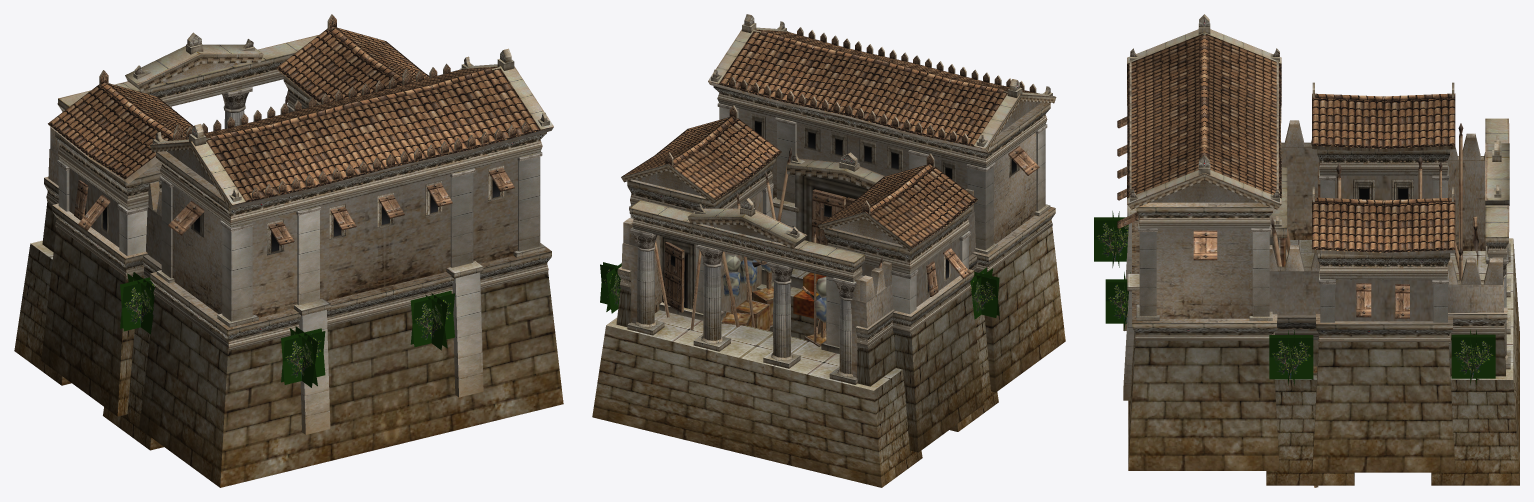
File: sele_barracks.glb
The picture shows the model from 3 angles, left to right: view 1: azimuth 30°, elevation 25°; view 2: azimuth 150°, elevation 25°; view 3: azimuth 270°, elevation 25°; orthographic projection. The views are drawn at different scales.
Visible parts, largest first — view 1: sele_barracks_part0, sele_barracks_part1, sele_barracks_part2, sele_barracks_part3; view 2: sele_barracks_part0, sele_barracks_part3, sele_barracks_part4; view 3: sele_barracks_part0, sele_barracks_part4, sele_barracks_part5, sele_barracks_part1, sele_barracks_part2.
Boxes of the visible parts, bbox=[...] form: sele_barracks_part0: bbox=[14, 14, 563, 487]; sele_barracks_part1: bbox=[281, 326, 325, 387]; sele_barracks_part2: bbox=[410, 290, 454, 350]; sele_barracks_part3: bbox=[120, 272, 154, 334]; sele_barracks_part0: bbox=[592, 14, 1065, 487]; sele_barracks_part3: bbox=[970, 267, 999, 319]; sele_barracks_part4: bbox=[600, 262, 621, 313]; sele_barracks_part0: bbox=[1117, 14, 1519, 487]; sele_barracks_part4: bbox=[1451, 329, 1495, 384]; sele_barracks_part5: bbox=[1269, 330, 1313, 385]; sele_barracks_part1: bbox=[1094, 211, 1128, 267]; sele_barracks_part2: bbox=[1105, 272, 1130, 330].
Bounding box in the file's own units: 3.73 × 3.72 × 4.
2 materials, 2 textured.
